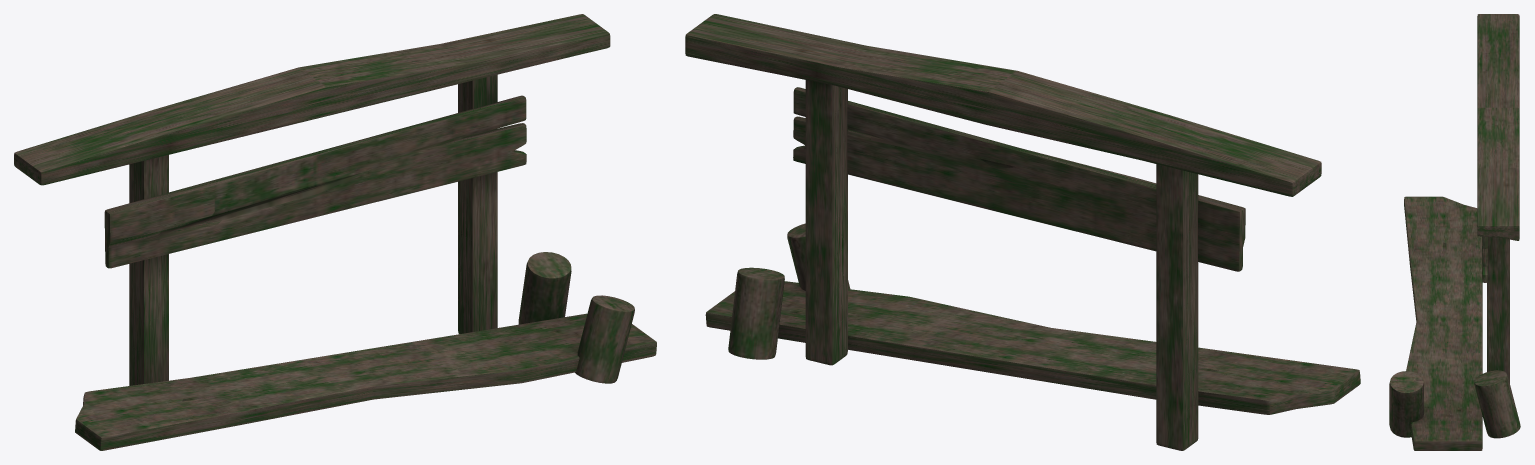
Rendered from silla-rota.glb.
3 renders of one model, left to right at view 1: azimuth 30°, elevation 25°; view 2: azimuth 150°, elevation 25°; view 3: azimuth 270°, elevation 25°, orthographic. The views are drawn at different scales.
Visible parts, largest first — view 1: Mesh_0; view 2: Mesh_0; view 3: Mesh_0.
Part boxes in pixels (box(x1,y1,x2,y2)): Mesh_0: box(14, 14, 656, 450); Mesh_0: box(685, 14, 1360, 450); Mesh_0: box(1389, 14, 1520, 450).
Size of the model in its own units: 11.93 by 6.23 by 3.08.
Materials: 1 (1 with a texture image).
